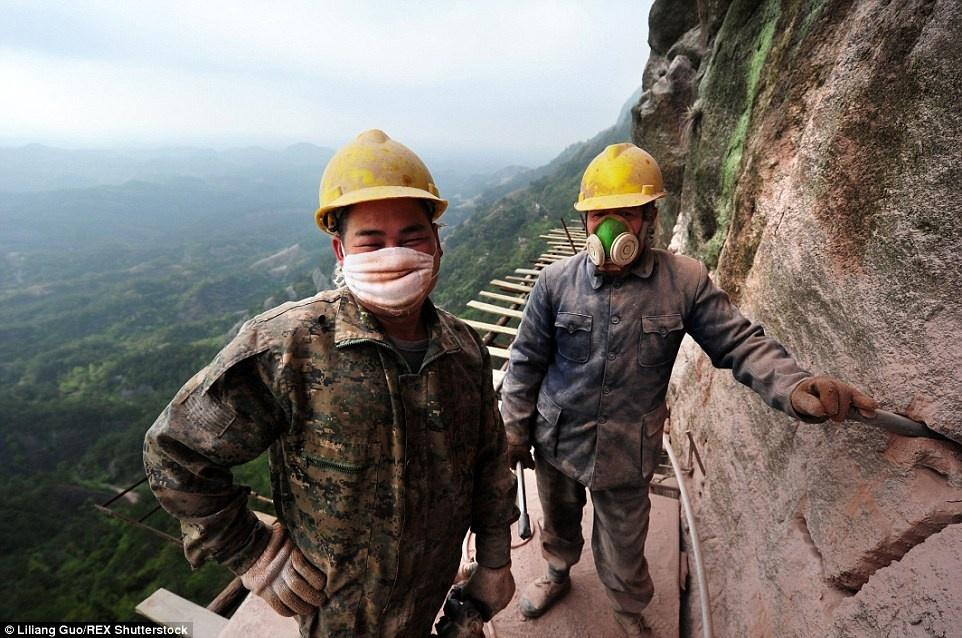helmet: (313, 128, 447, 310), (573, 140, 669, 265)
not_reflective: (141, 286, 518, 638), (499, 244, 729, 470)
